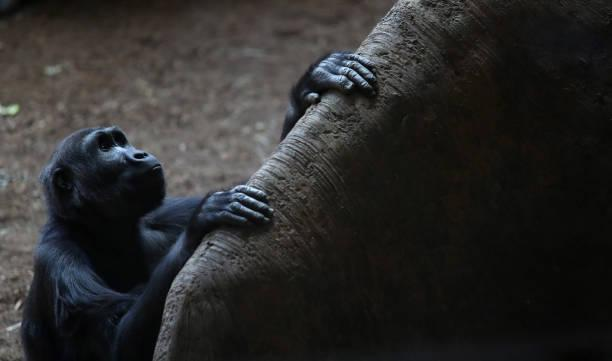gorille_Autres: (15, 100, 280, 352)
